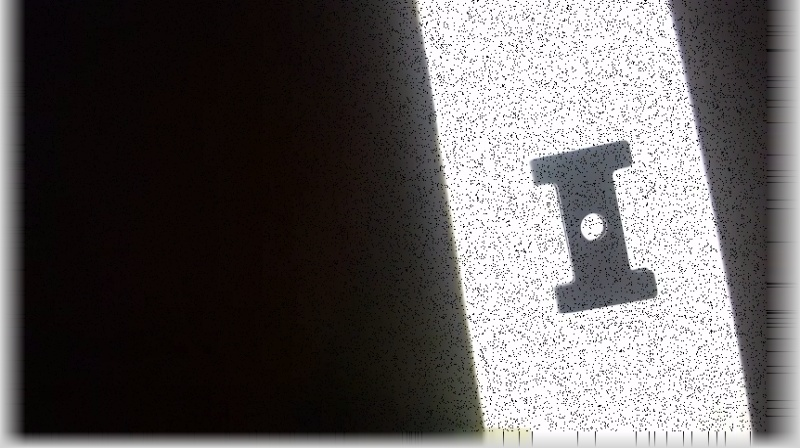O002: (529, 136, 661, 317)
